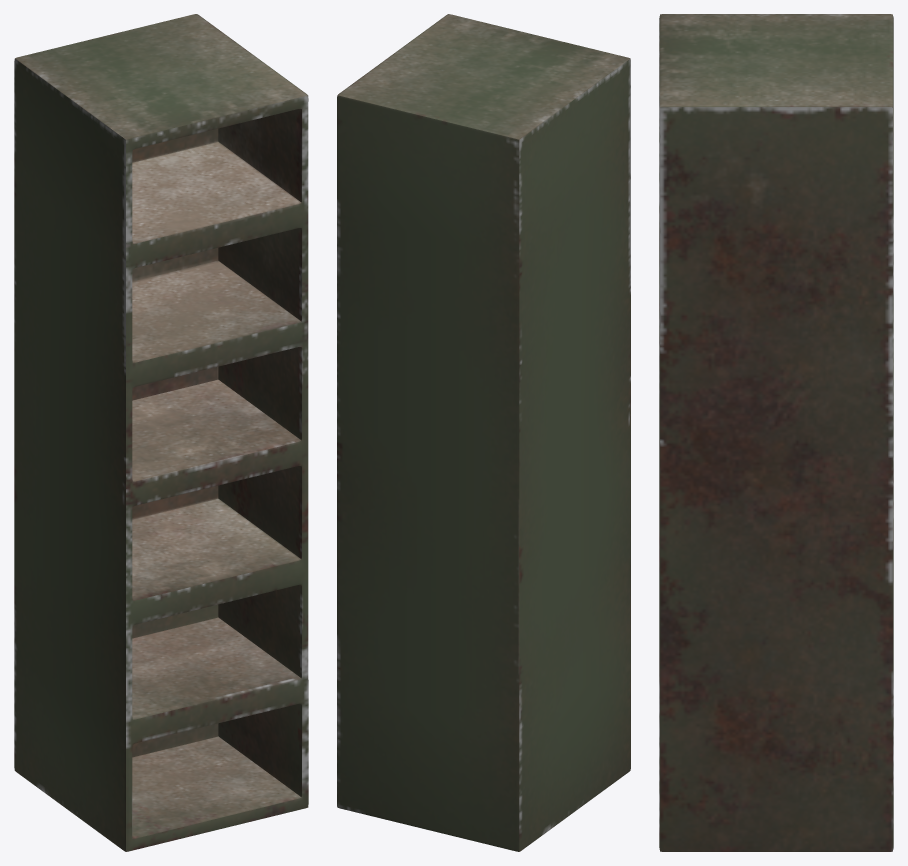
The model's file is Armario_1_Adm_CENA.fbx.
3 views of the same model, side by side, from view 1: azimuth 30°, elevation 25°; view 2: azimuth 150°, elevation 25°; view 3: azimuth 270°, elevation 25° (orthographic). The views are drawn at different scales.
Parts seen in each view (by area): view 1: Cube.094; view 2: Cube.094; view 3: Cube.094.
Part boxes in pixels (x1=…): Cube.094: x1=14, y1=14, x2=308, y2=851; Cube.094: x1=337, y1=14, x2=630, y2=851; Cube.094: x1=659, y1=14, x2=893, y2=851.
Bounding box in the file's own units: 55.52 × 206 × 58.75.
